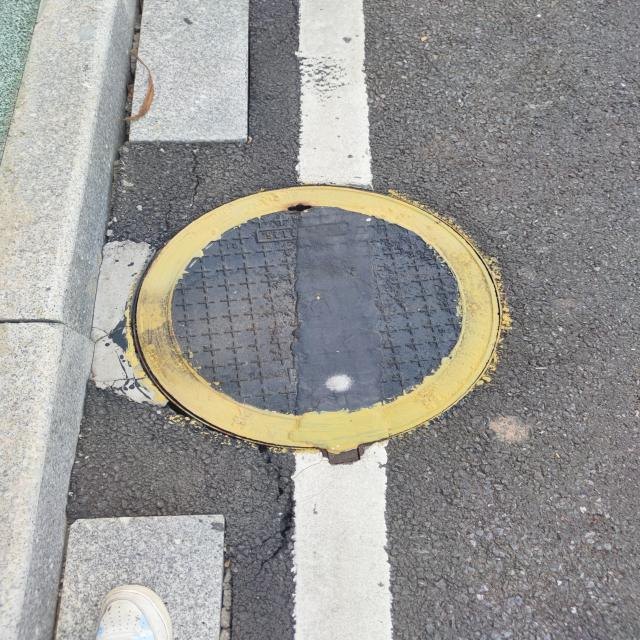Good: (127, 184, 510, 466)
